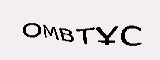В: (59, 26, 75, 43)
М: (42, 24, 59, 41)
О: (20, 22, 43, 38)
С: (120, 24, 145, 47)
Т: (74, 26, 94, 44)
Ұ: (93, 24, 117, 46)
